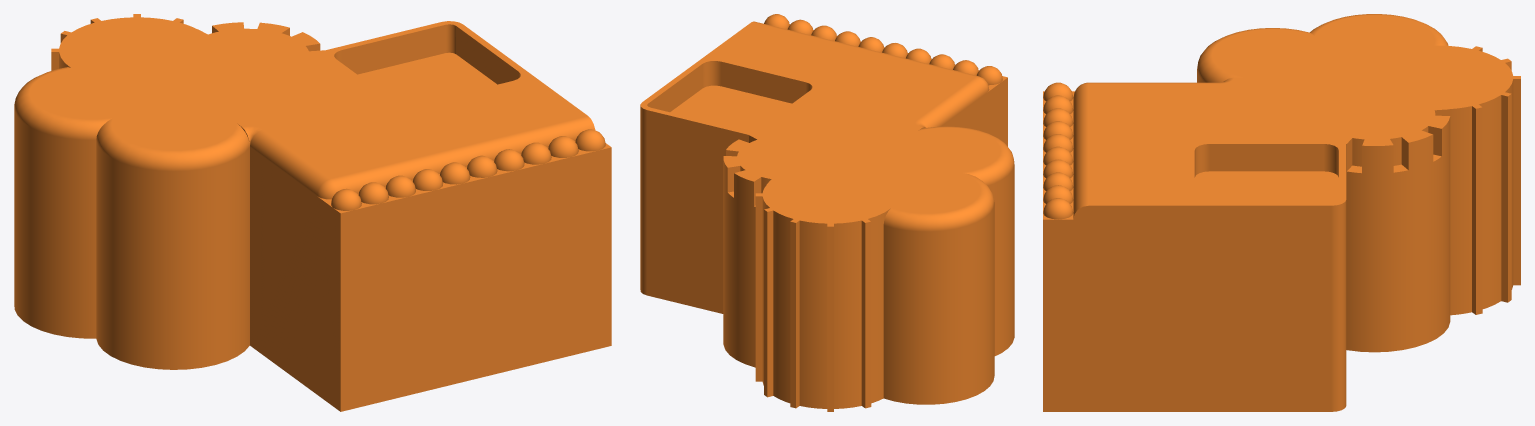
File: geom_mixture.obj
3 renders of one model, left to right at view 1: azimuth 30°, elevation 25°; view 2: azimuth 150°, elevation 25°; view 3: azimuth 270°, elevation 25°, orthographic. The views are drawn at different scales.
Visible parts, largest first — view 1: Solid1; view 2: Solid1; view 3: Solid1.
Boxes of the visible parts, left/top/right/bottom form: Solid1: left=14, top=14, right=611, bottom=411; Solid1: left=640, top=14, right=1014, bottom=411; Solid1: left=1043, top=14, right=1520, bottom=411.
Bounding box in the file's own units: 0.307 × 0.15 × 0.315.
